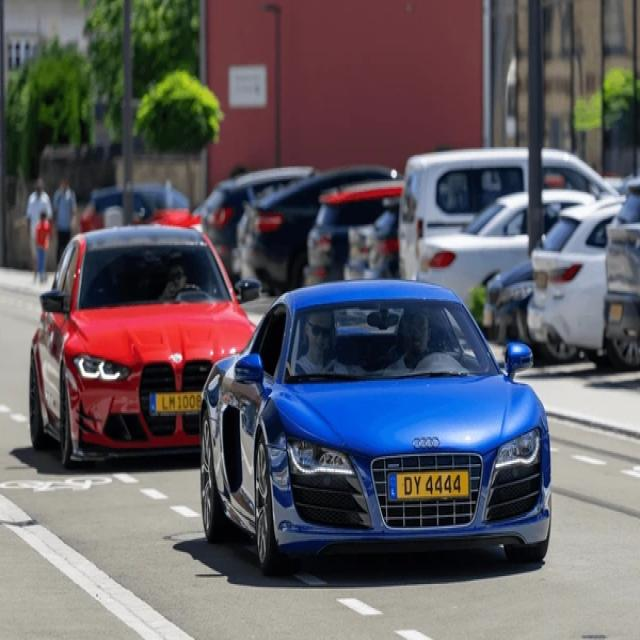audi: (411, 435, 441, 453)
